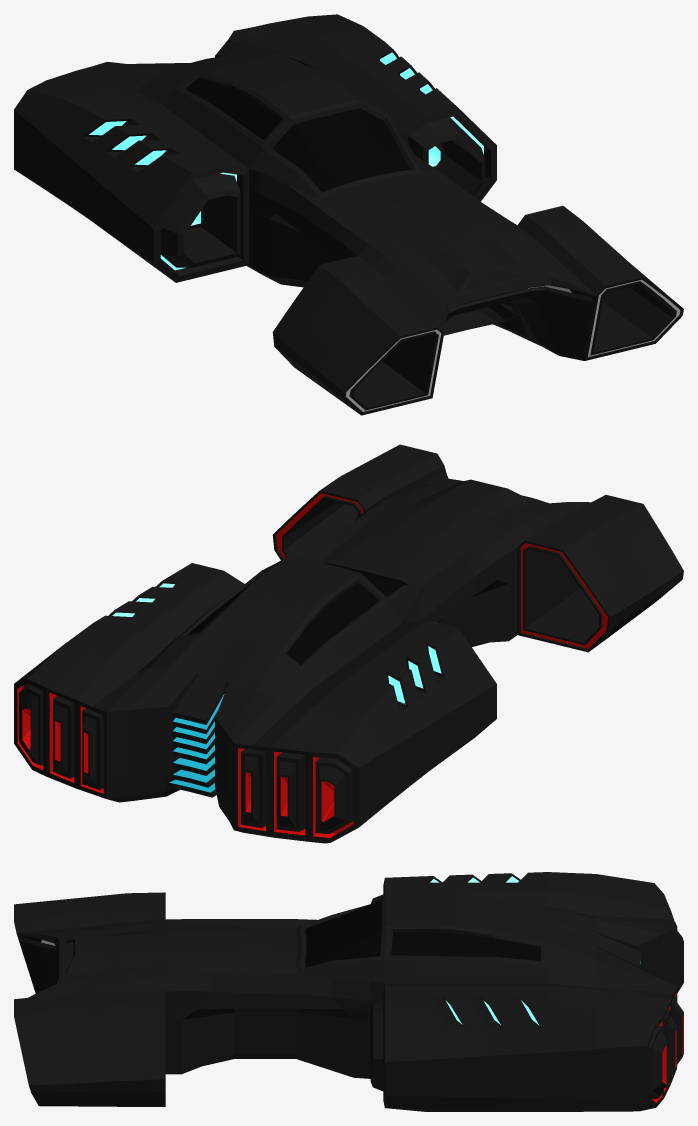
The model's file is Spacestang_05_1.fbx.
3 renders of one model, top to bottom at view 1: azimuth 30°, elevation 25°; view 2: azimuth 150°, elevation 25°; view 3: azimuth 270°, elevation 25°, orthographic. The views are drawn at different scales.
Parts seen in each view (by area): view 1: Cyberstang v5-unwrap; view 2: Cyberstang v5-unwrap; view 3: Cyberstang v5-unwrap.
Boxes of the visible parts, x1,y1,x2,y2 form: Cyberstang v5-unwrap: (14,14,683,415); Cyberstang v5-unwrap: (14,444,683,843); Cyberstang v5-unwrap: (14,872,683,1111).
Bounding box in the file's own units: 758 × 314 × 1351.
